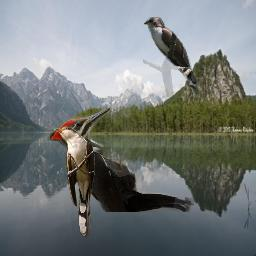Cuckoo: (143, 17, 203, 97), (54, 126, 95, 237)
Woodpecker: (42, 108, 194, 212)
